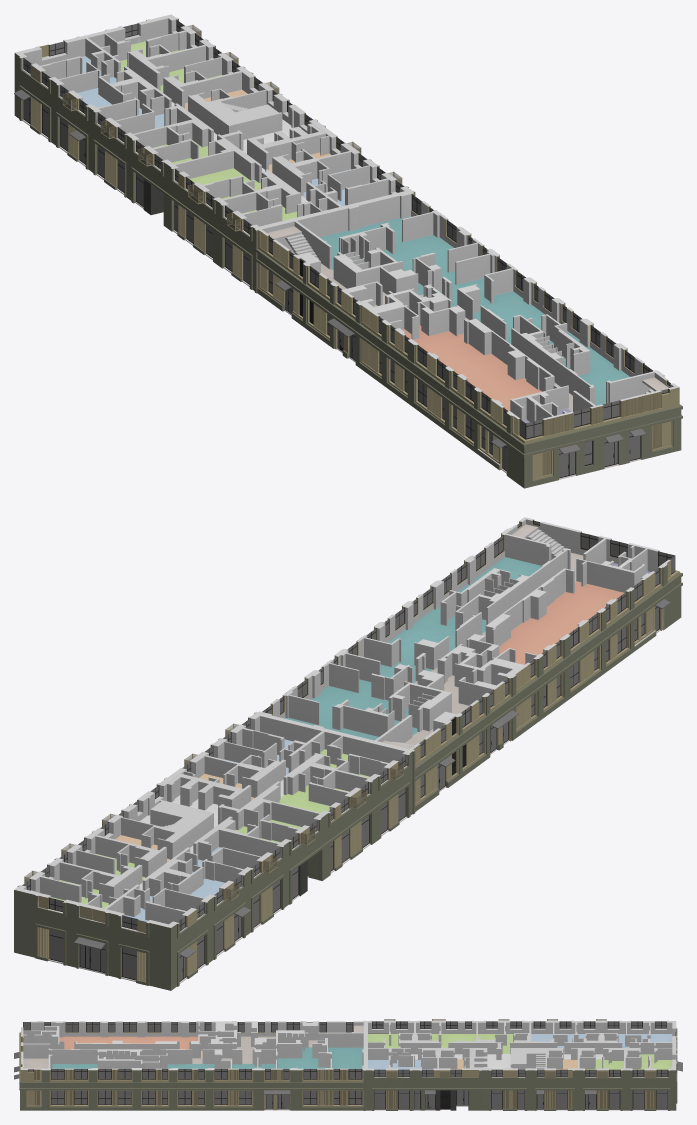
File: House_Low_2fl.glb
3 views of the same model, one above another, from view 1: azimuth 30°, elevation 25°; view 2: azimuth 150°, elevation 25°; view 3: azimuth 270°, elevation 25° (orthographic). The views are drawn at different scales.
Parts seen in each view (by area): view 1: Cube.025; view 2: Cube.025; view 3: Cube.025.
Boxes of the visible parts, x1,y1,x2,y2 form: Cube.025: (14, 14, 682, 488); Cube.025: (14, 517, 682, 990); Cube.025: (14, 1019, 682, 1110).
Size of the model in its own units: 17.06 by 5.92 by 88.6.
2 materials, 2 textured.
